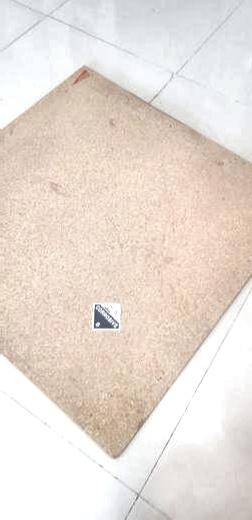corrosive: (93, 302, 124, 332)
